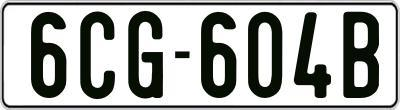0: (246, 11, 286, 98)
4: (292, 10, 329, 99)
6: (31, 12, 67, 101), (199, 11, 235, 97)
B: (342, 11, 382, 102)
C: (77, 11, 115, 98)
G: (125, 11, 165, 103)
